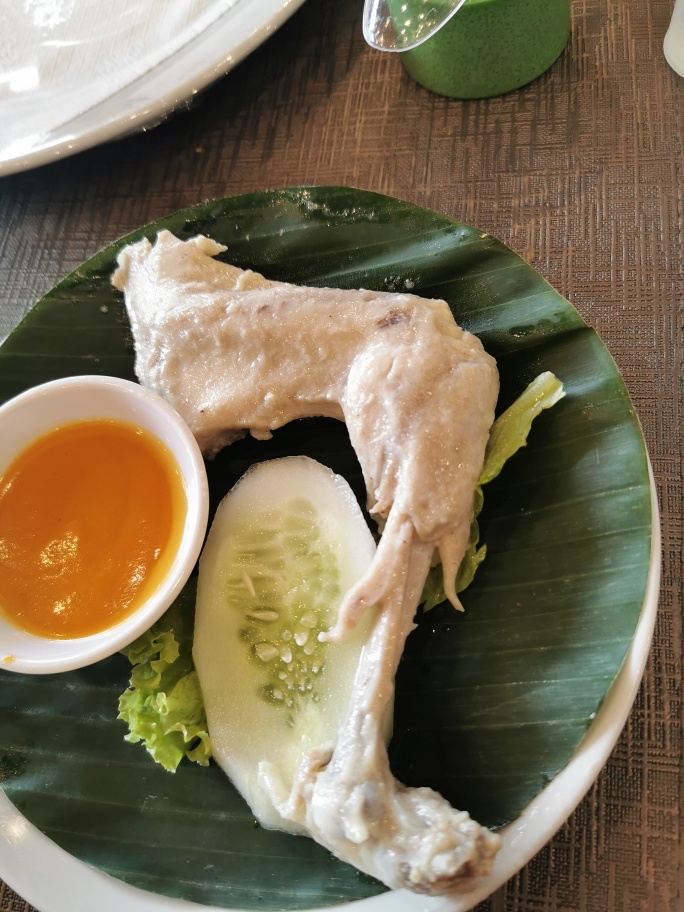ayam pop: (100, 236, 498, 885)
extra: (1, 425, 374, 846)
